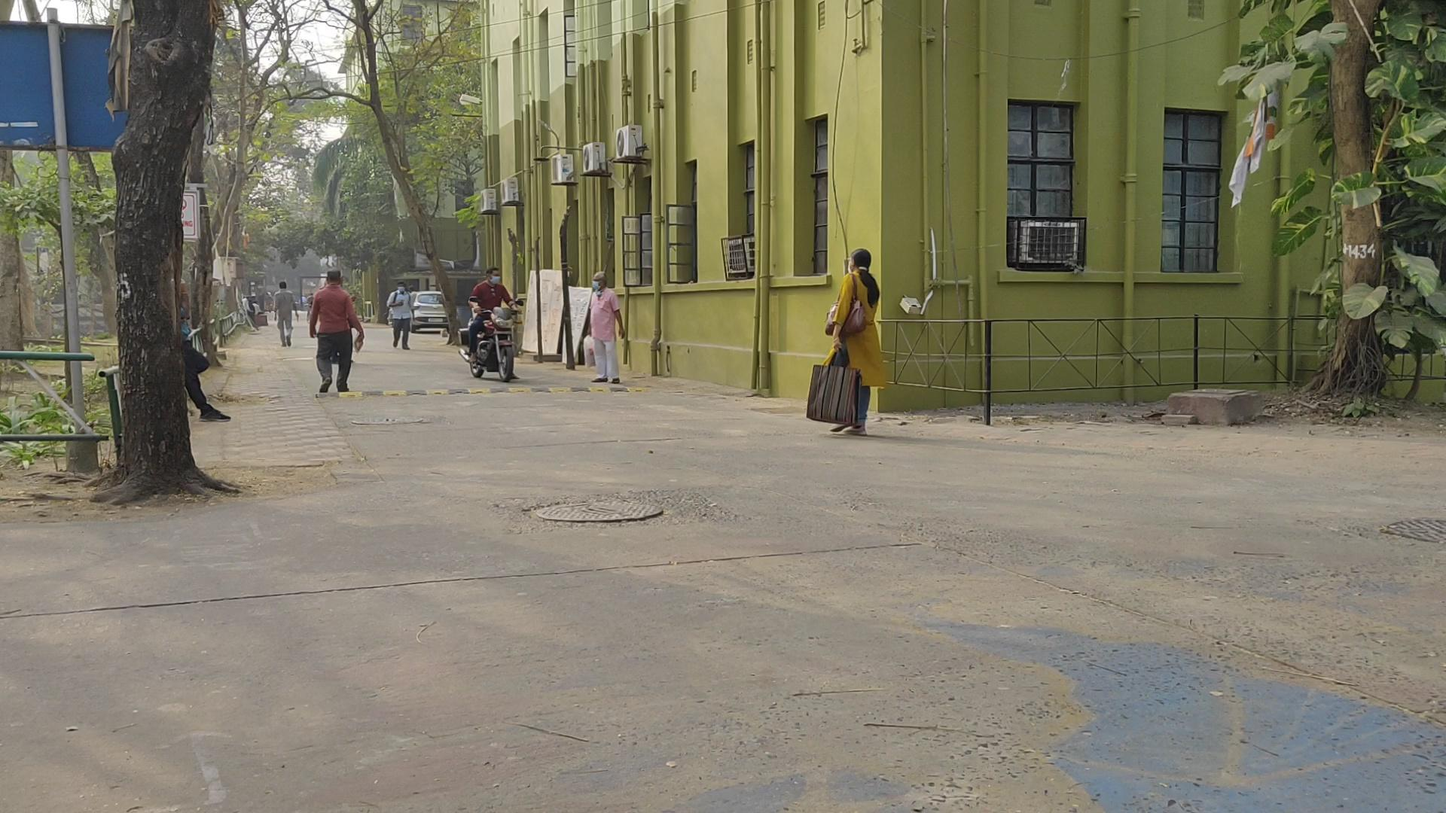bike: (457, 268, 521, 382)
car: (407, 290, 452, 333)
